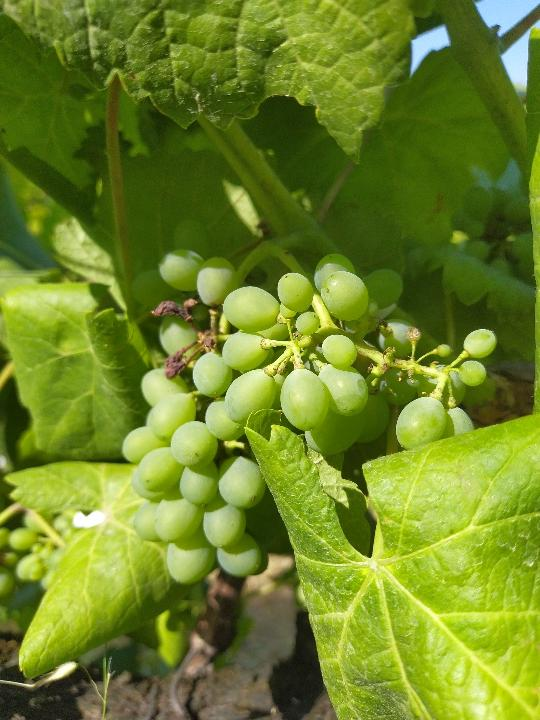grape: (115, 217, 499, 590)
